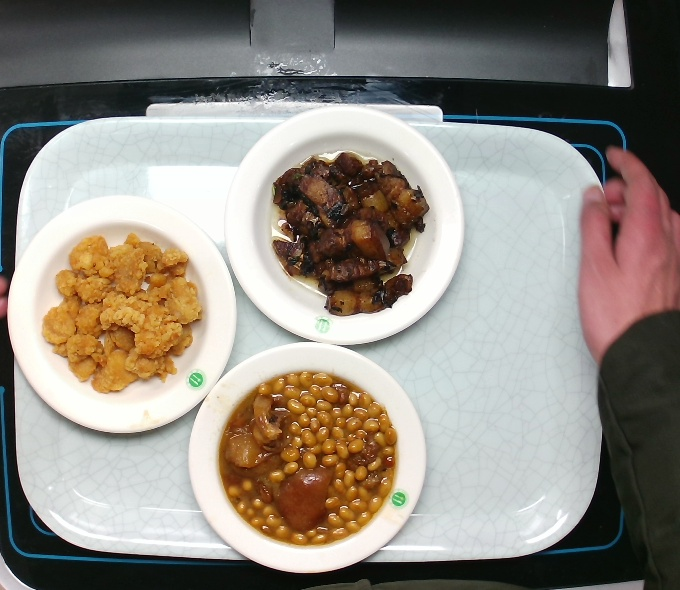wcq-GanCaiRou: (267, 147, 434, 319)
wcq-HuangDouZhuJiao: (213, 367, 405, 551)
wcq-JiMiHua: (38, 227, 204, 398)
